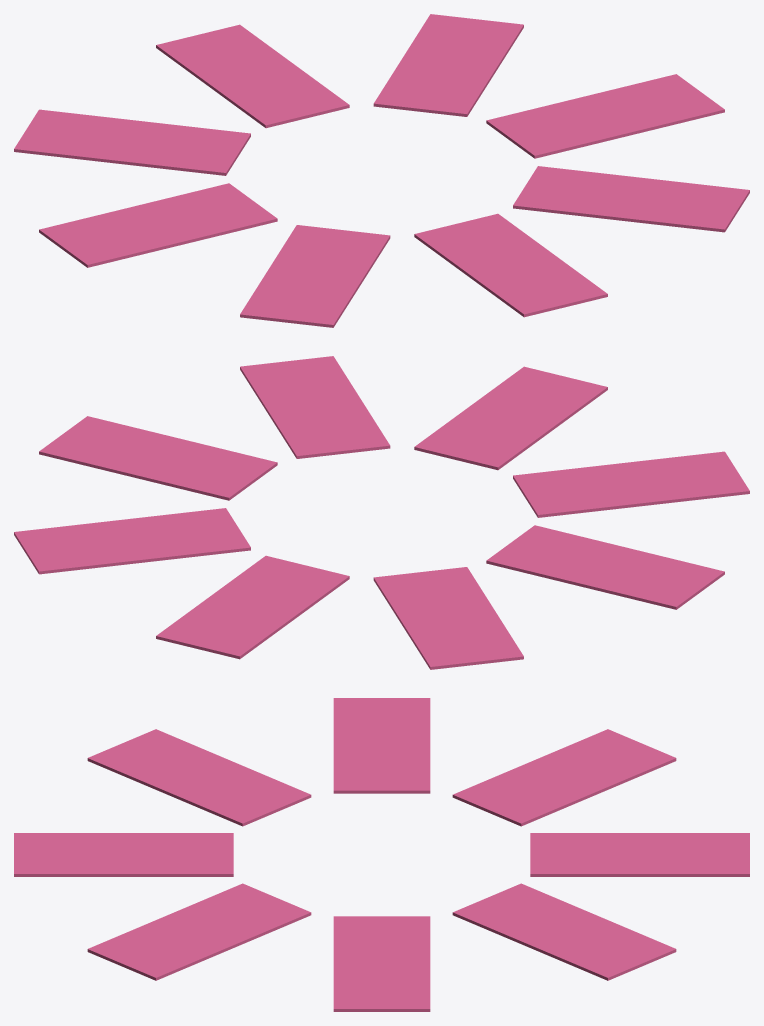
3 renders of one model, top to bottom at view 1: azimuth 30°, elevation 25°; view 2: azimuth 150°, elevation 25°; view 3: azimuth 270°, elevation 25°, orthographic.
Visible parts, largest first — view 1: Lotus geometric petal.003, Lotus geometric petal.007, Lotus geometric petal, Lotus geometric petal.004, Lotus geometric petal.002, Lotus geometric petal.006, Lotus geometric petal.001, Lotus geometric petal.005; view 2: Lotus geometric petal.001, Lotus geometric petal.005, Lotus geometric petal, Lotus geometric petal.004, Lotus geometric petal.002, Lotus geometric petal.006, Lotus geometric petal.003, Lotus geometric petal.007; view 3: Lotus geometric petal.001, Lotus geometric petal.003, Lotus geometric petal.005, Lotus geometric petal.007, Lotus geometric petal.002, Lotus geometric petal.006, Lotus geometric petal, Lotus geometric petal.004.
Part boxes in pixels (x1,y1,x2,y2): Lotus geometric petal.003: [14, 109, 250, 175]; Lotus geometric petal.007: [513, 166, 749, 232]; Lotus geometric petal: [486, 74, 724, 158]; Lotus geometric petal.004: [39, 183, 277, 267]; Lotus geometric petal.002: [156, 24, 349, 128]; Lotus geometric petal.006: [414, 213, 607, 317]; Lotus geometric petal.001: [373, 14, 523, 116]; Lotus geometric petal.005: [240, 225, 390, 327]; Lotus geometric petal.001: [14, 508, 250, 574]; Lotus geometric petal.005: [513, 451, 749, 517]; Lotus geometric petal: [39, 416, 277, 500]; Lotus geometric petal.004: [486, 525, 724, 609]; Lotus geometric petal.002: [156, 555, 349, 659]; Lotus geometric petal.006: [414, 366, 607, 470]; Lotus geometric petal.003: [373, 567, 523, 669]; Lotus geometric petal.007: [240, 356, 390, 458]; Lotus geometric petal.001: [452, 883, 676, 980]; Lotus geometric petal.003: [452, 729, 676, 826]; Lotus geometric petal.005: [87, 729, 311, 826]; Lotus geometric petal.007: [87, 883, 311, 980]; Lotus geometric petal.002: [530, 833, 749, 876]; Lotus geometric petal.006: [14, 833, 233, 876]; Lotus geometric petal: [333, 916, 430, 1011]; Lotus geometric petal.004: [333, 698, 430, 793].
Bounding box in the file's own units: 1.14 × 0.005 × 1.14.
1 material, 1 textured.
